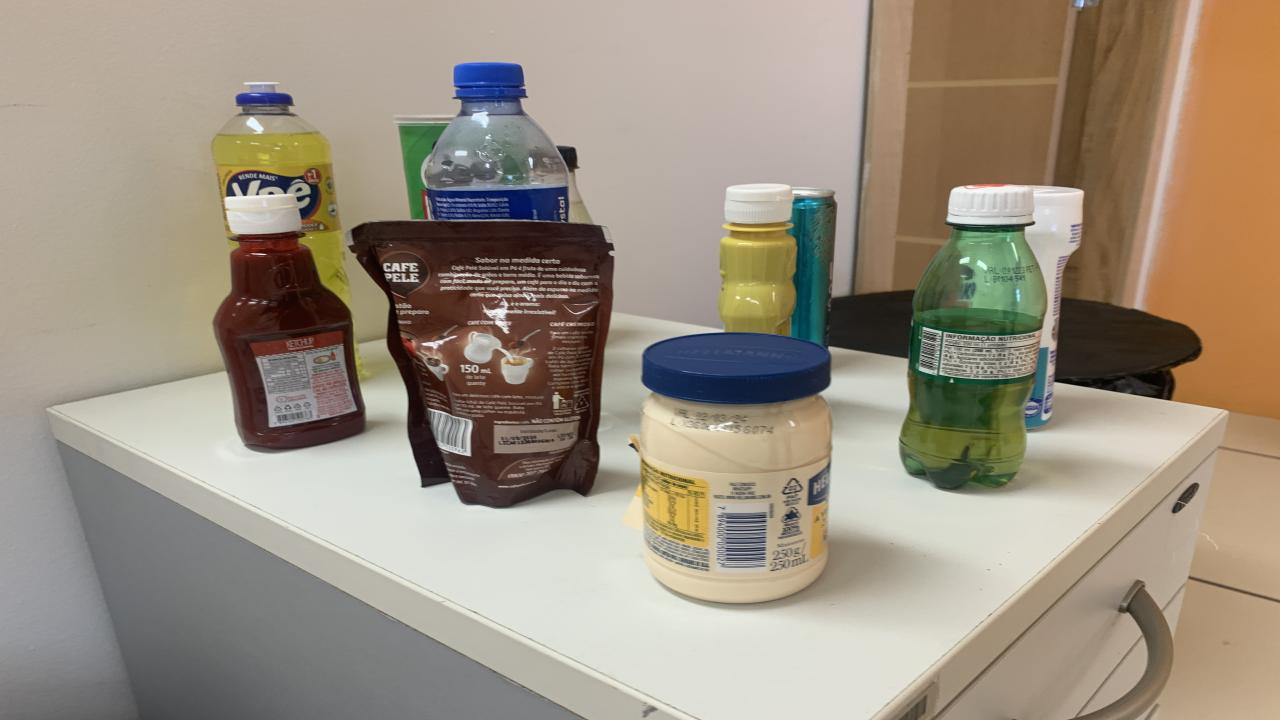Cleaner-Cleanup_Items: (1025, 186, 1085, 428)
Coffee-Pantry_Items: (352, 221, 612, 506)
Detergent-Cleanup_Items: (212, 82, 350, 304), (355, 347, 368, 377)
Guarana-Drinks: (900, 184, 1048, 489)
Ketchup-Pantry_Items: (212, 195, 365, 448)
Mayonnaise-Pantry_Items: (632, 332, 832, 602)
Mustard-Pantry_Items: (718, 184, 798, 336)
Pringles-Snacks: (392, 114, 455, 219)
Soda-Drinks: (558, 144, 592, 223)
Tea-Drinks: (788, 188, 838, 345)
Water_Bottle-Drinks: (422, 62, 570, 223)
